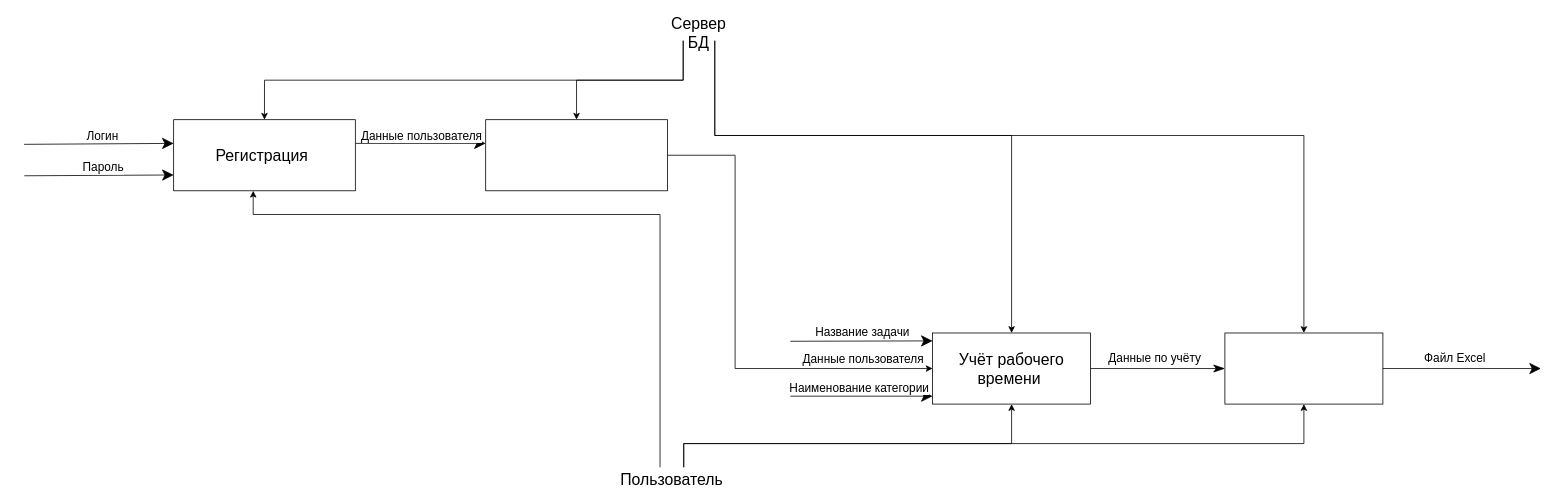
This 1566x504 diagram has some shape labels left out. The centre of each missing label's shape, as x and y in pixels:
Авторизация: point (576, 155)
Экспорт отчёта в Excel: point (1303, 368)
